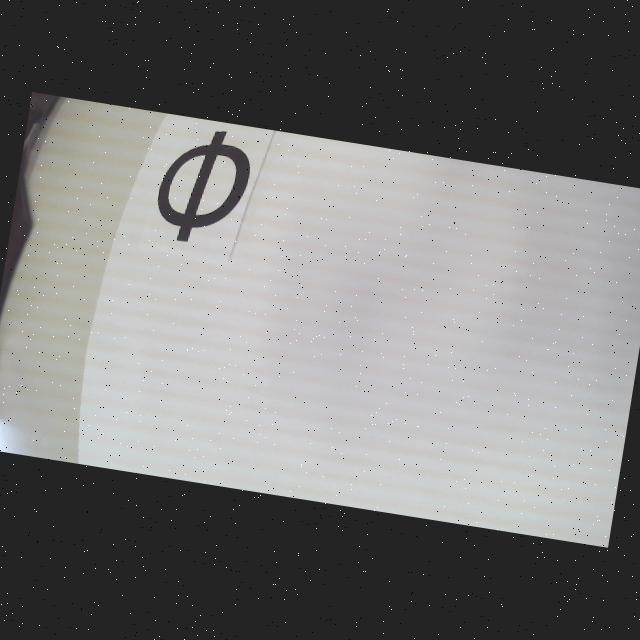PHI: (151, 122, 256, 250)
